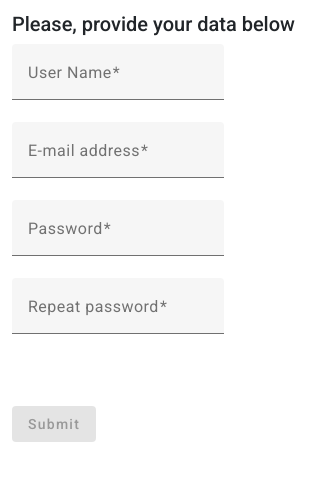
Scenario: RegistrationComponent › shows the server's reasons when registration fails
Step 1. Type "jane" into the field labelled "User Name" → (118,80), box [28, 68, 208, 92]
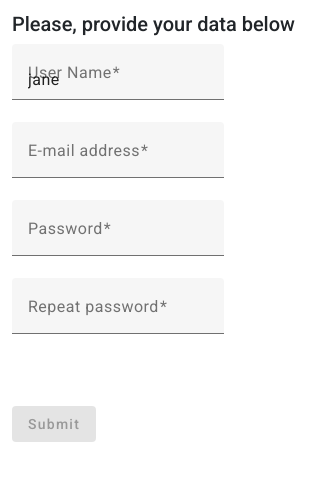
Step 2. Type "jane@example.com" into the field labelled "E-mail address" → (118,158), box [28, 146, 208, 170]
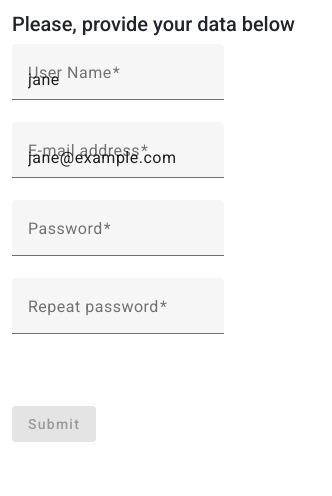
Step 3. Type "Secret1!" into the password field labelled "Password" → (118,236), box [28, 224, 208, 248]
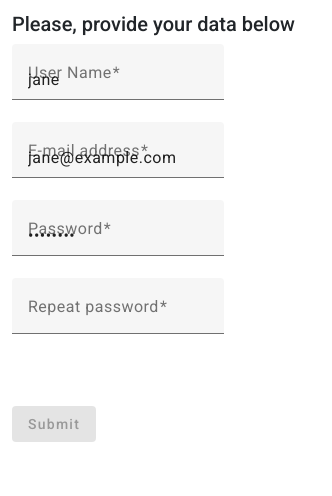
Step 4. Type "Secret1!" into the password field labelled "Repeat password" → (118,314), box [28, 302, 208, 326]
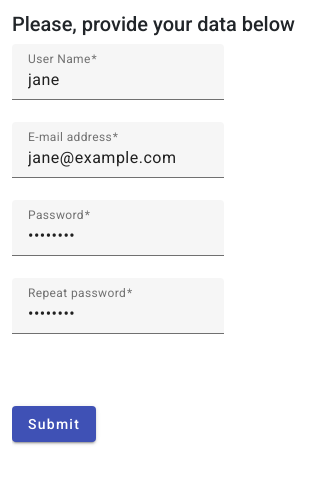
Step 5. Click the submit button → (54,424), box [12, 406, 96, 442]
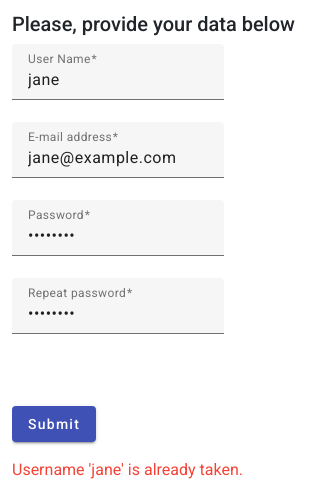
Result: the text "Username 'jane' is already taken." is shown at [12, 460, 243, 479]
